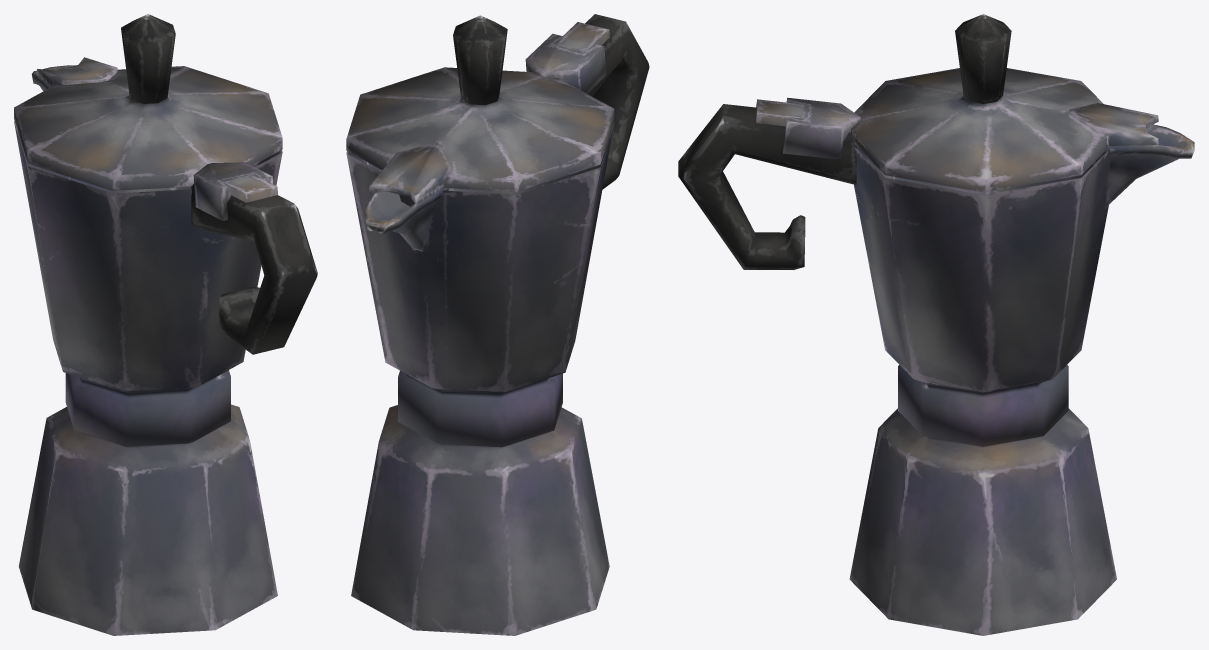
Rendered from SM_bouilloir.fbx.
3 renders of one model, left to right at view 1: azimuth 30°, elevation 25°; view 2: azimuth 150°, elevation 25°; view 3: azimuth 270°, elevation 25°, orthographic.
Parts seen in each view (by area): view 1: Cube; view 2: Cube; view 3: Cube.
Boxes of the visible parts, x1,y1,x2,y2 form: Cube: [14, 14, 317, 635]; Cube: [346, 14, 649, 635]; Cube: [678, 14, 1194, 635].
Size of the model in its own units: 211 by 476 by 394.
